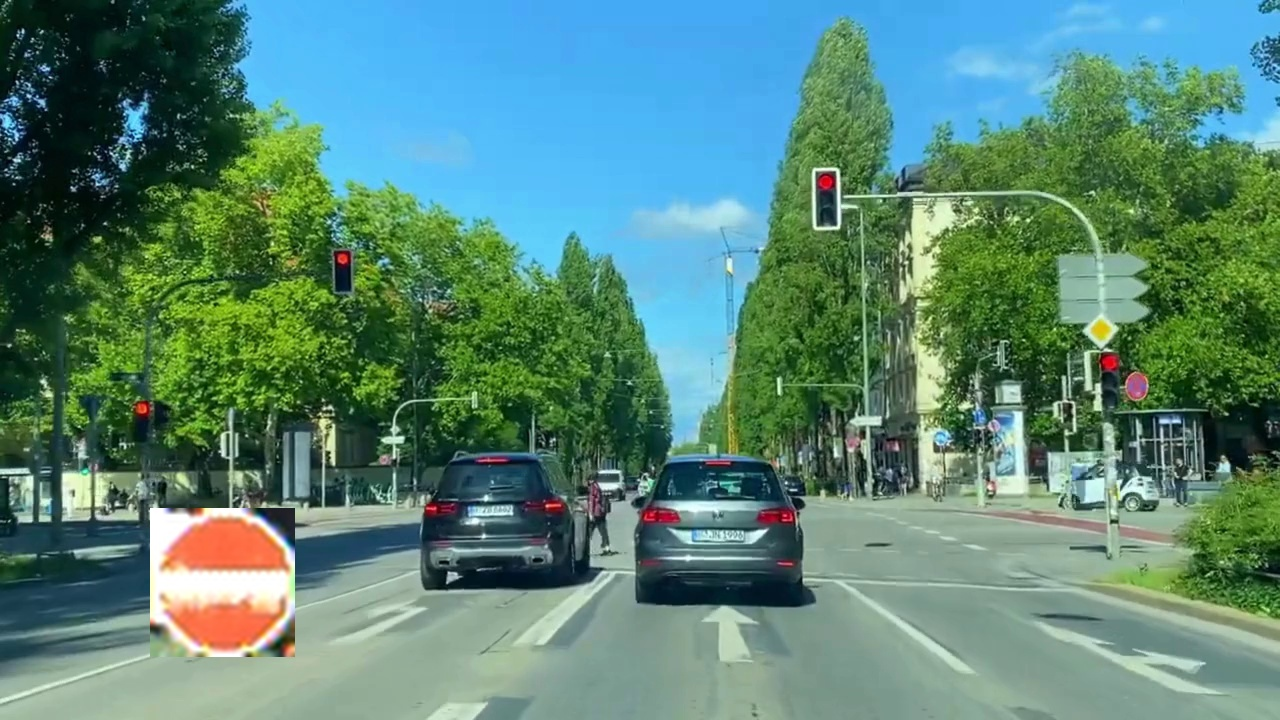No entry: (150, 508, 295, 657)
